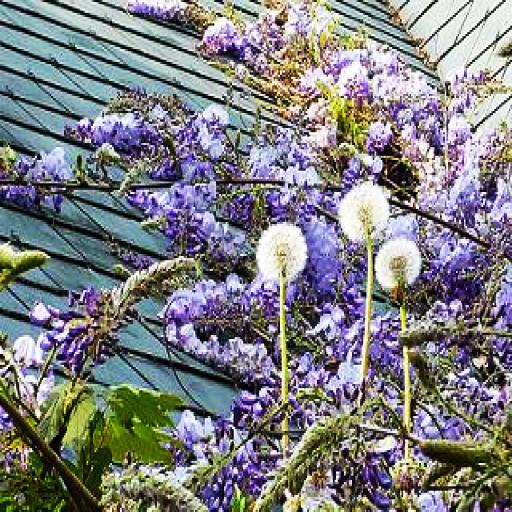dandelion: (339, 182, 389, 244), (256, 222, 309, 277), (370, 239, 424, 290)
